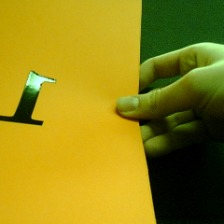orange1: (1, 69, 59, 130)
